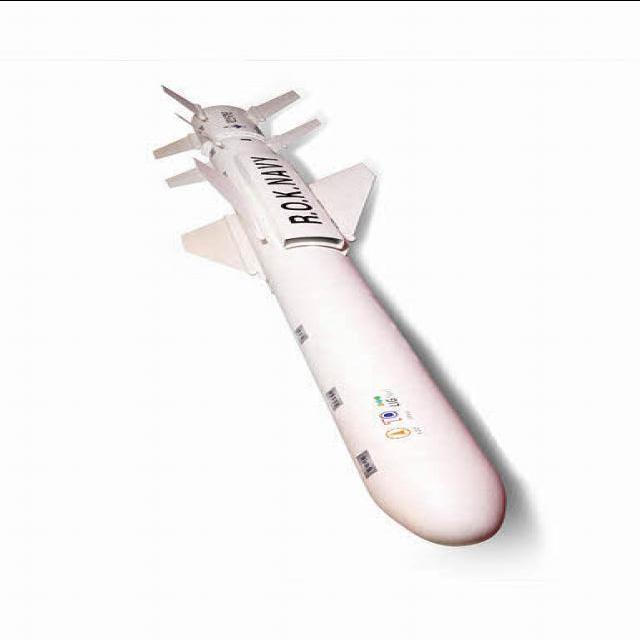missile: (152, 83, 508, 549)
